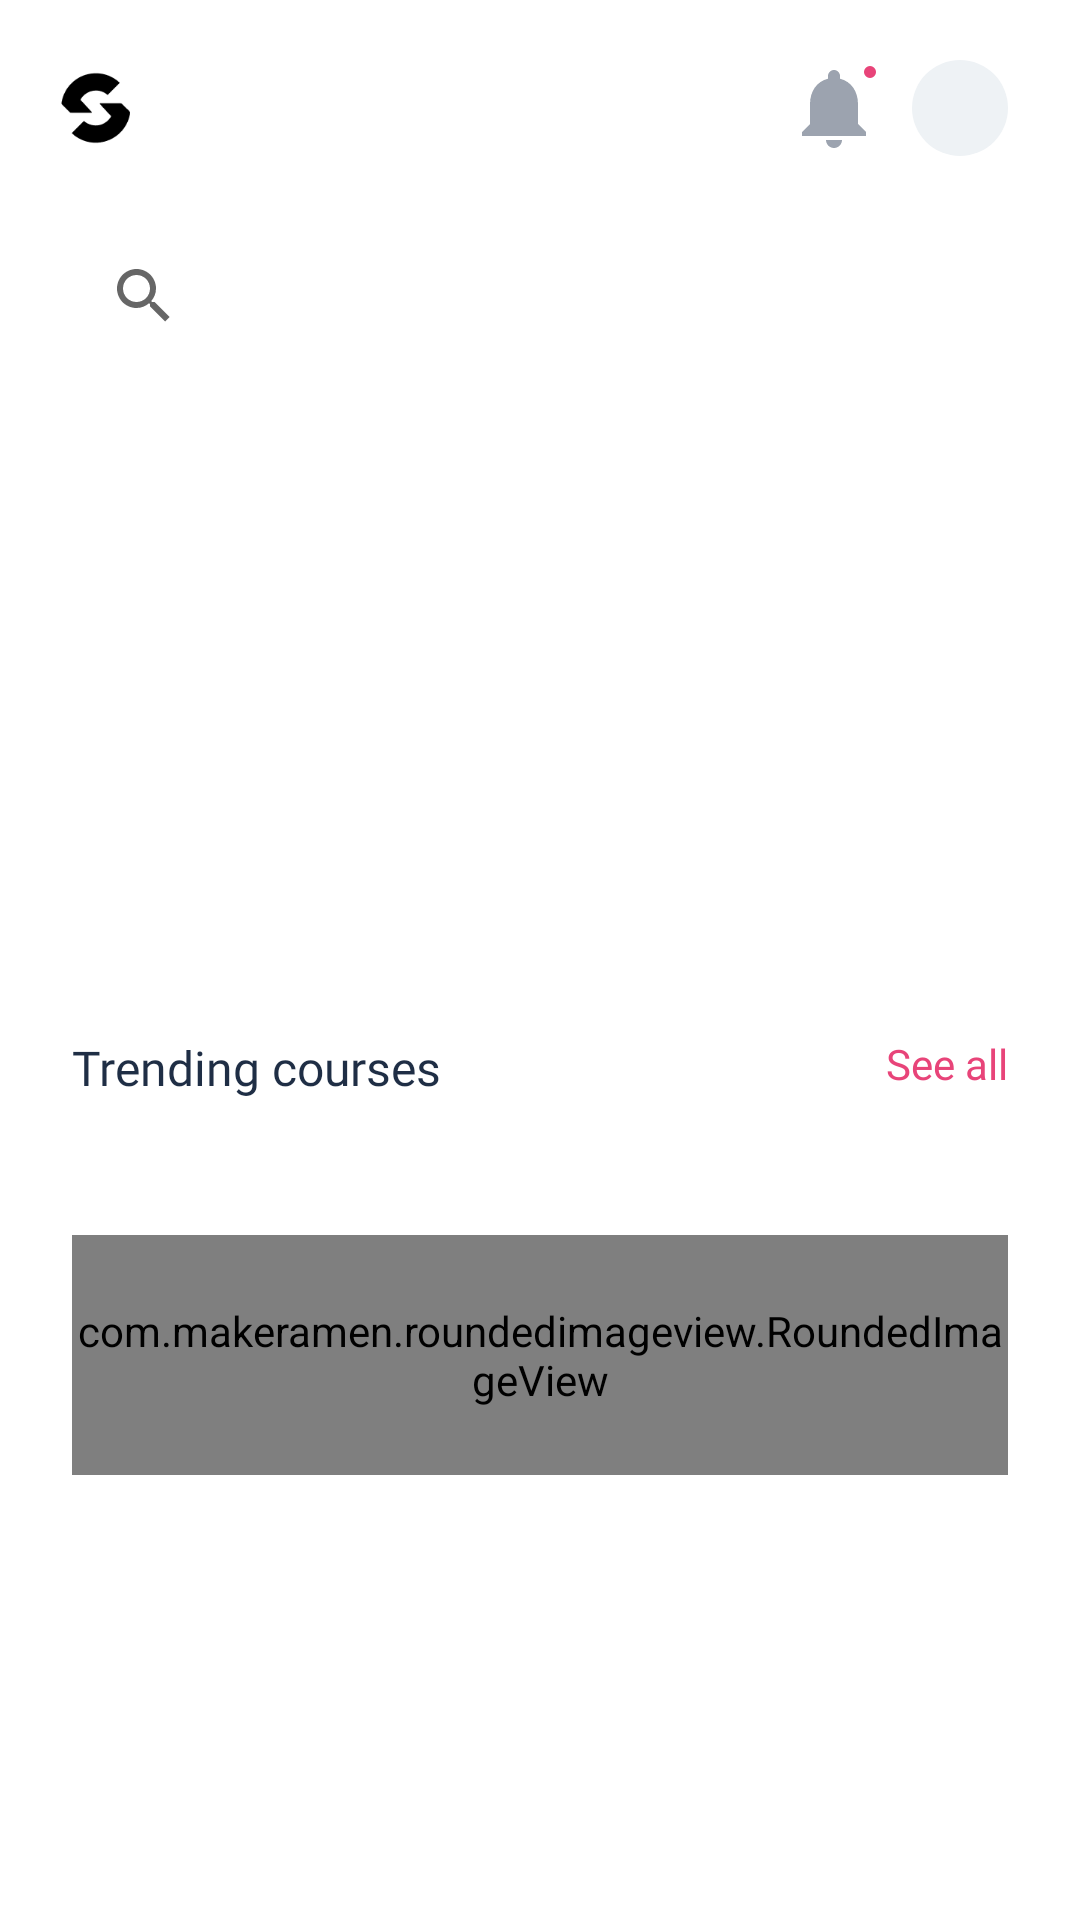

Icon bounding boxes for this 1080x1920 phone screenshot, format (x1, y1, x2, y2):
notifications: (802, 66, 876, 148)
